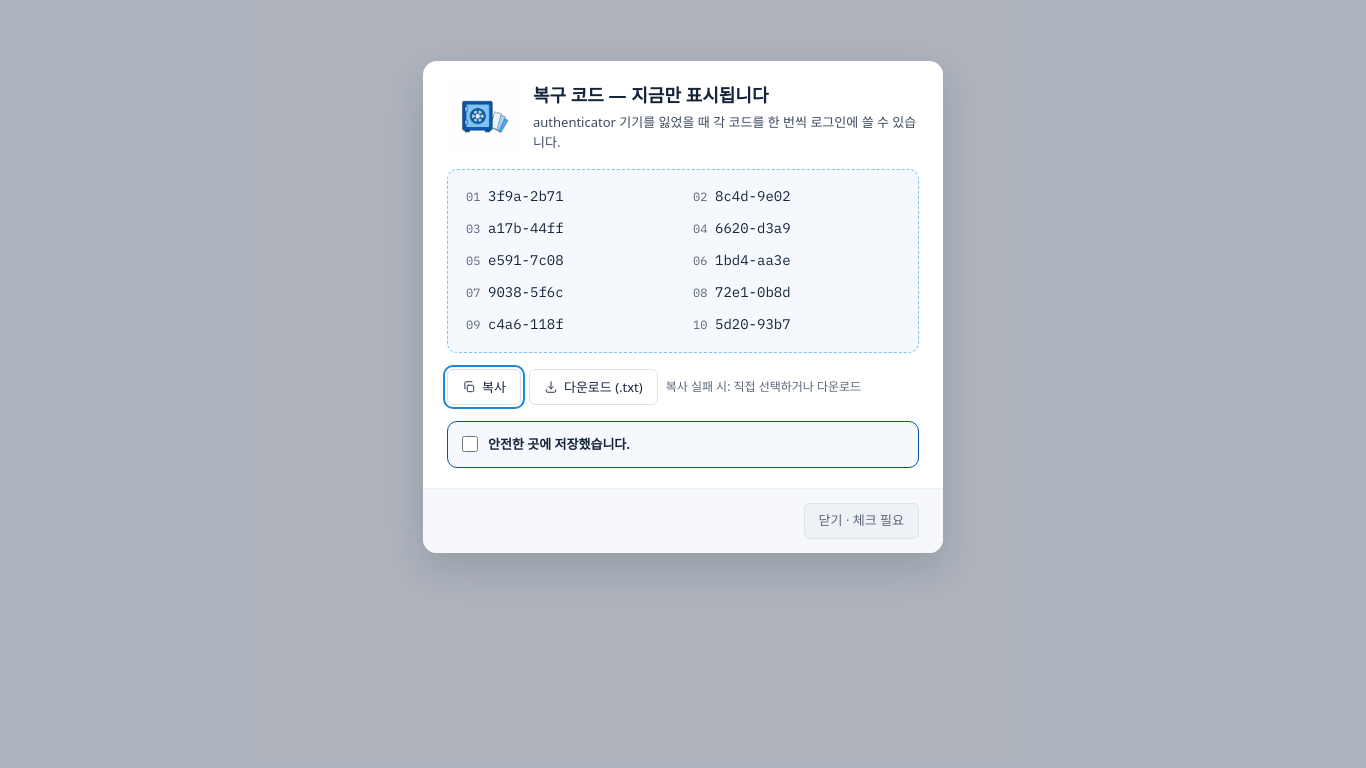
Test: RecoveryCodesModal › shows a manual-copy hint when copyToClipboard fails
Click the button "복사": (484, 387) left=447, top=369, right=521, bottom=405
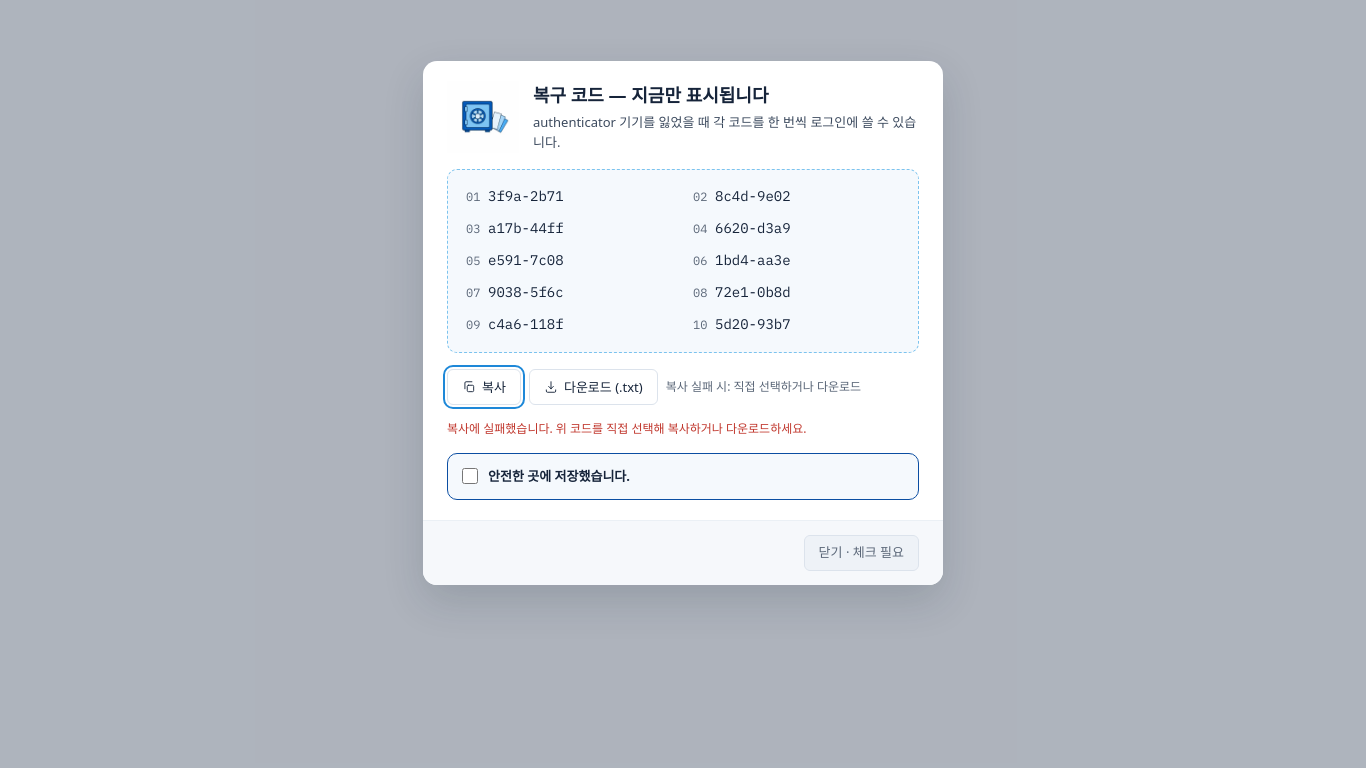
Expected: the text "복사에 실패했습니다. 위 코드를 직접 선택해 복사하거나 다운로드하세요." is shown, left=447, top=420, right=806, bottom=437
